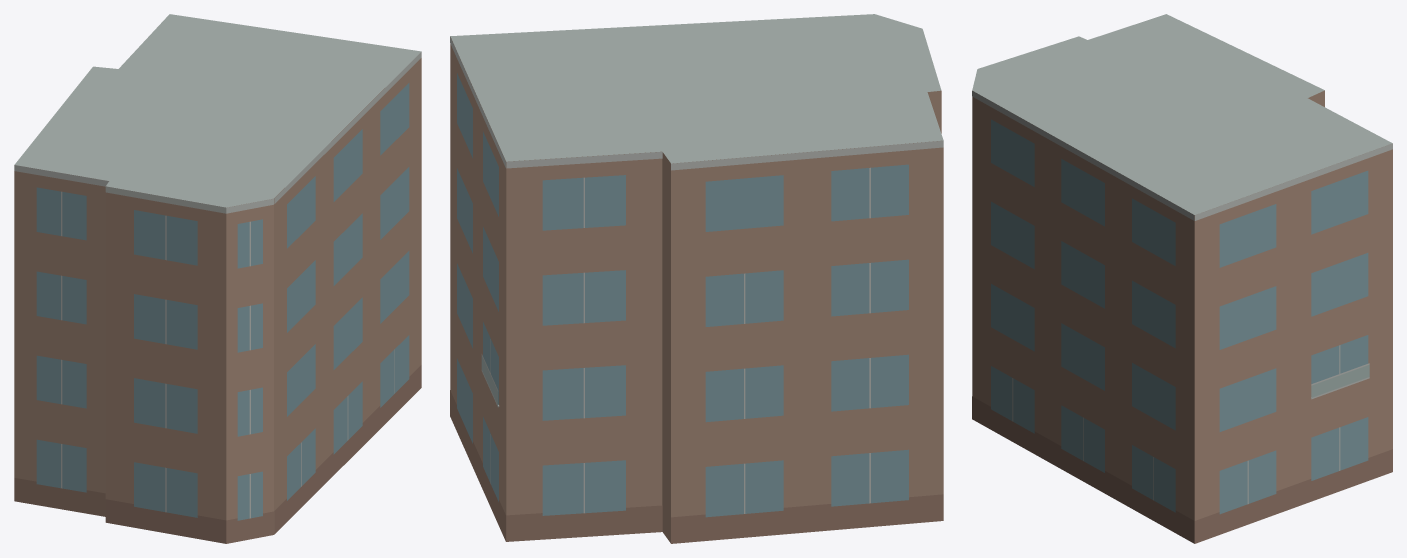
Rendered from survey-upis-32534482.glb.
3 renders of one model, left to right at view 1: azimuth 30°, elevation 25°; view 2: azimuth 150°, elevation 25°; view 3: azimuth 270°, elevation 25°, orthographic. The views are drawn at different scales.
Visible parts, largest first — view 1: survey-upis-32534482.tmp; view 2: survey-upis-32534482.tmp; view 3: survey-upis-32534482.tmp.
Part boxes in pixels (x1,y1,x2,y2): survey-upis-32534482.tmp: (14,14,421,543); survey-upis-32534482.tmp: (450,14,943,543); survey-upis-32534482.tmp: (972,14,1392,543).
Bounding box in the file's own units: 17.6 × 13.4 × 15.55.
